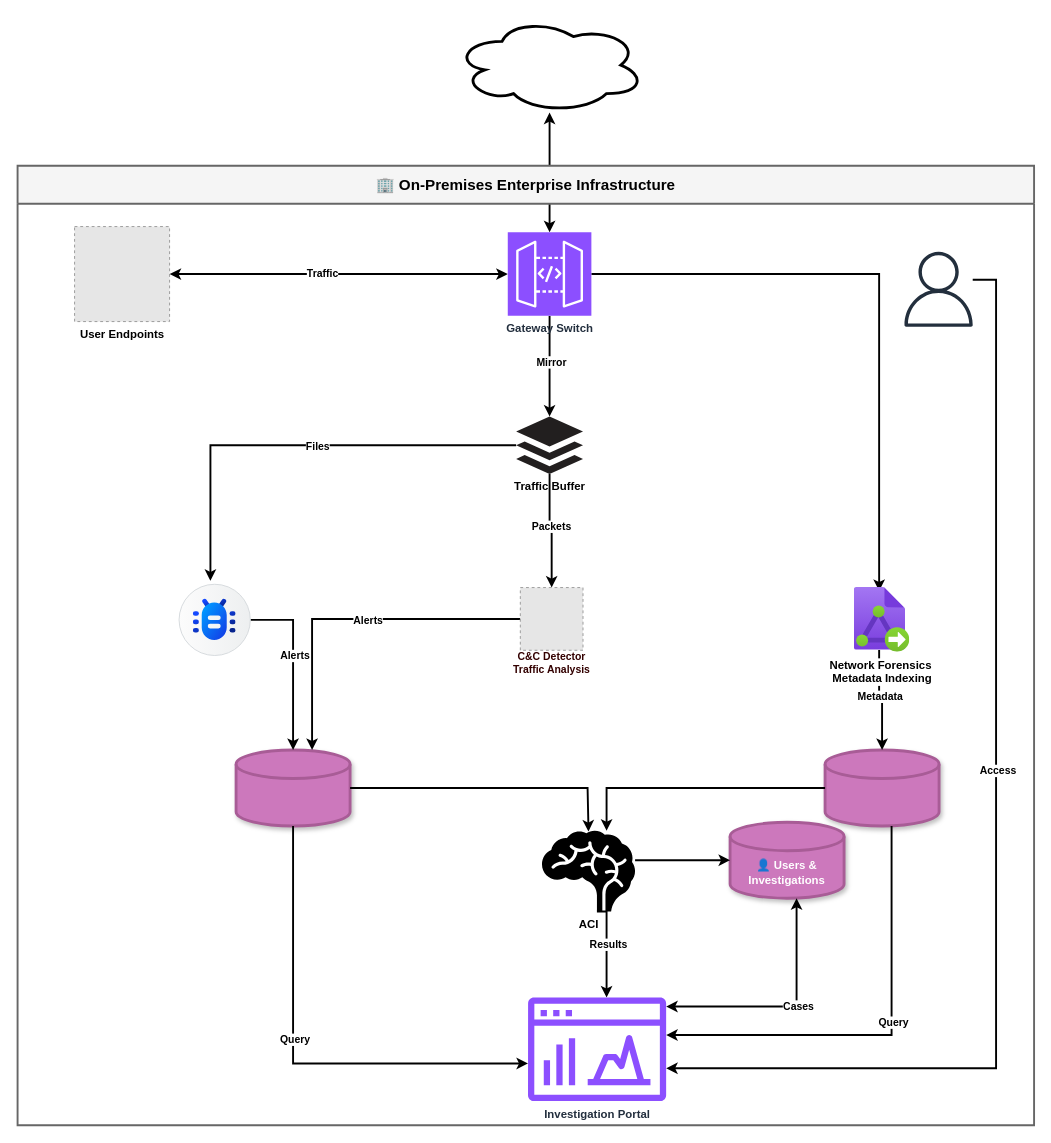
The diagram is 1051 pixels wide and 1143 high, and some of its shapes have lost their labels. Grey dashed boxes stand in for pictures. Here are the shapes that lost their labels. From the top down, the centre of each, then its label:
At [549,65]: "🌐 Internet".
At [938,288]: "SOC Analyst".
At [214,619]: "File Analysis Malware Detection".
At [293,789]: "🚨 Alerts".
At [882,789]: "📊 Forensics 3-month retention".
